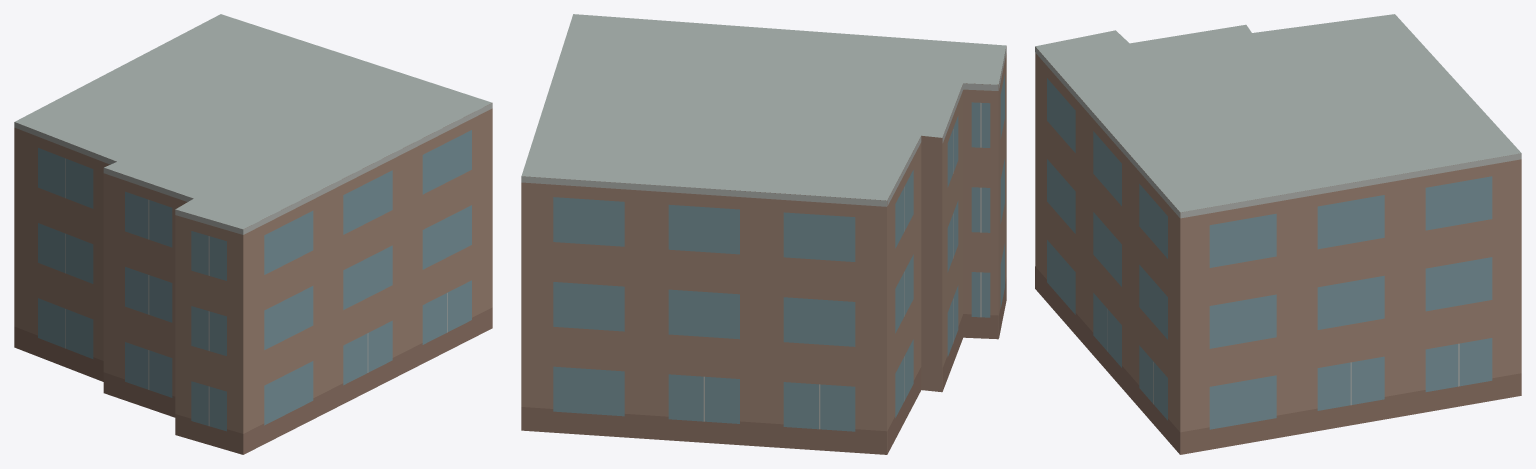
Rendered from survey-upis-32481972.glb.
3 views of the same model, side by side, from view 1: azimuth 30°, elevation 25°; view 2: azimuth 150°, elevation 25°; view 3: azimuth 270°, elevation 25° (orthographic). The views are drawn at different scales.
Parts seen in each view (by area): view 1: survey-upis-32481972.tmp; view 2: survey-upis-32481972.tmp; view 3: survey-upis-32481972.tmp.
Boxes of the visible parts, x1=… form: survey-upis-32481972.tmp: x1=14, y1=14, x2=492, y2=454; survey-upis-32481972.tmp: x1=521, y1=14, x2=1006, y2=454; survey-upis-32481972.tmp: x1=1035, y1=14, x2=1521, y2=454.
Size of the model in its own units: 17.21 by 9.8 by 17.83.
